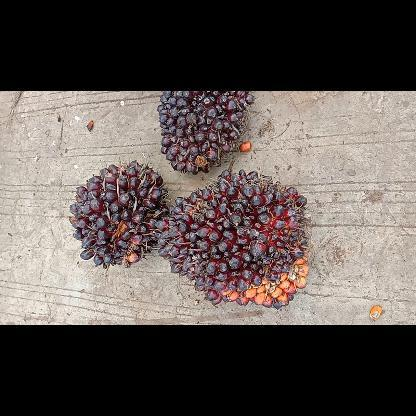TBS mentah: (161, 164, 314, 308), (66, 158, 172, 268), (154, 91, 257, 177)
